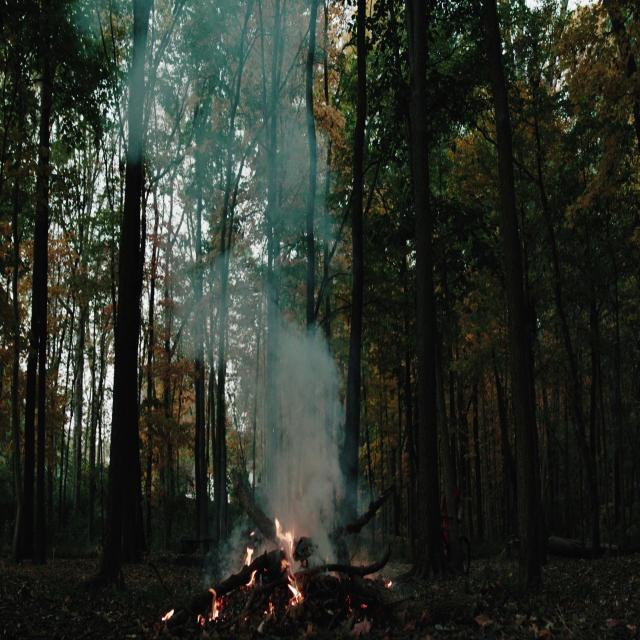Fire: (272, 512, 306, 616), (240, 541, 260, 593), (206, 582, 226, 628)
Smoke: (132, 2, 352, 554)
